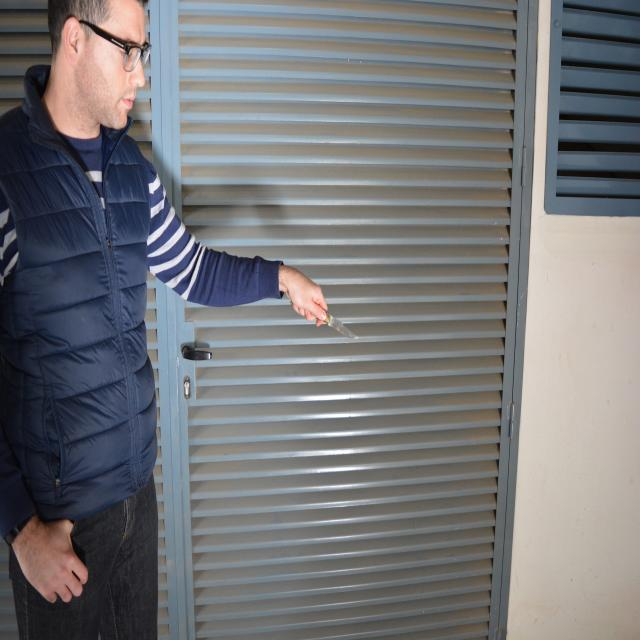knife: (328, 317, 363, 349)
